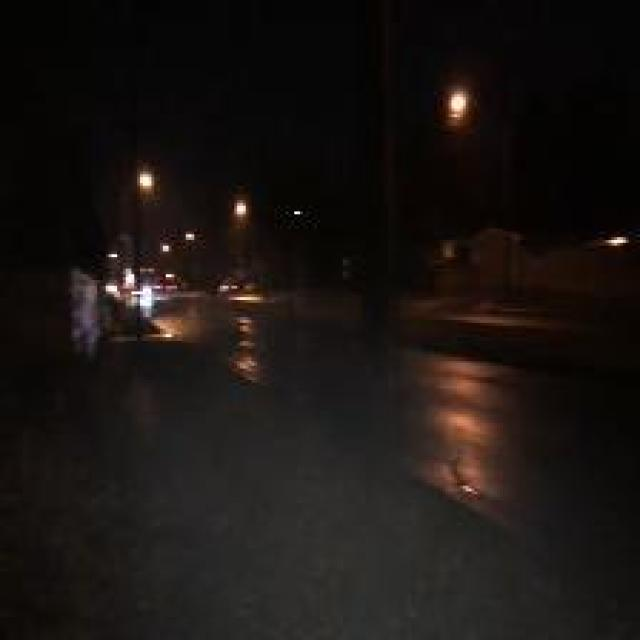other: (86, 254, 187, 297), (434, 80, 476, 140), (148, 223, 192, 258), (126, 160, 162, 197), (215, 184, 246, 221)
